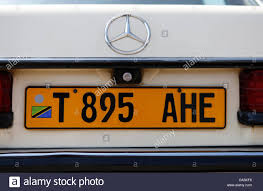T: (52, 90, 73, 125)
